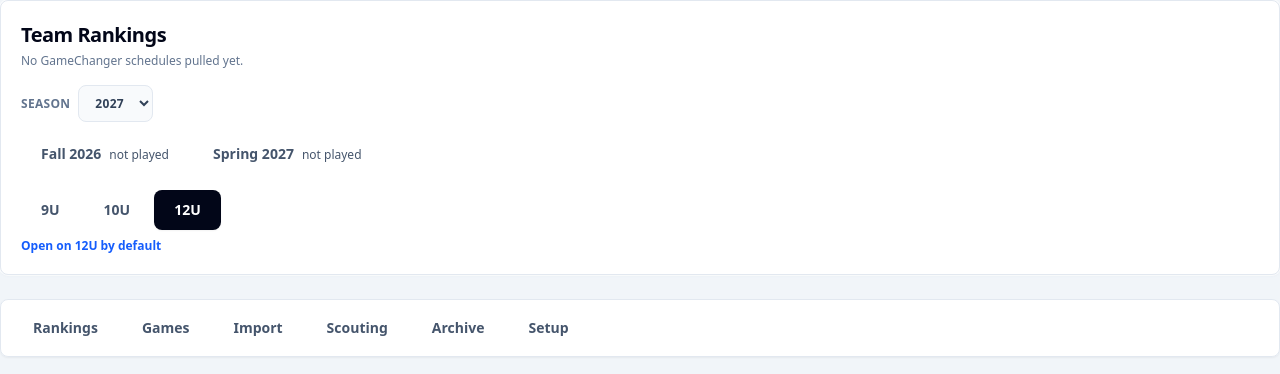
Test: a default age for Team Rankings › is kept when picked, and opens there the next time
Click the button "9U" at {"x": 50, "y": 210}, box [21,190,80,230]
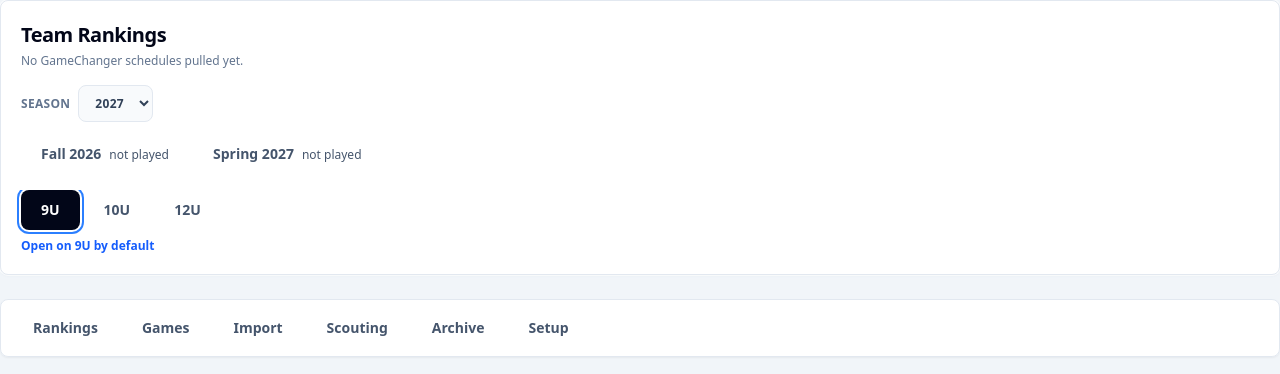
Click the button "Open on 9U by default" at {"x": 88, "y": 246}, box [21,238,154,254]
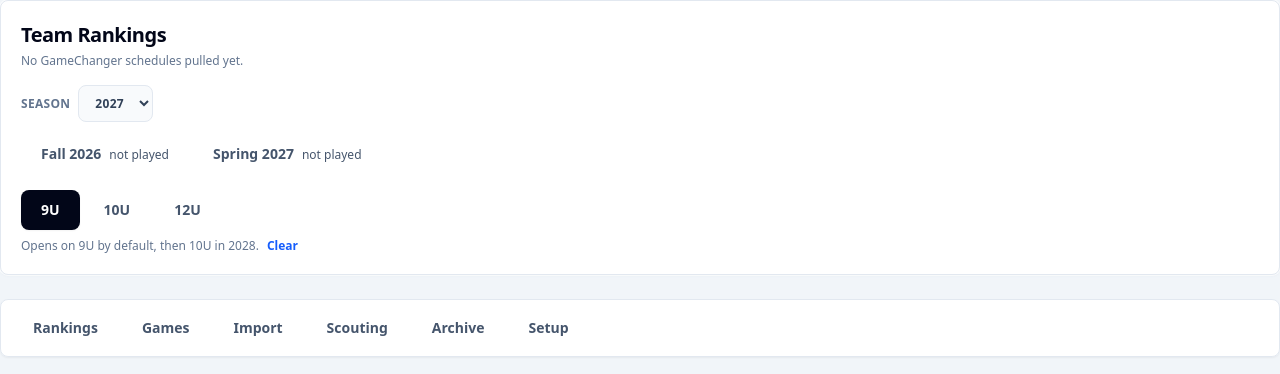
Expected: the element with test id "default-age" shows "Opens on 9U by default, then 10U in 2028.", [21,237,298,254]
